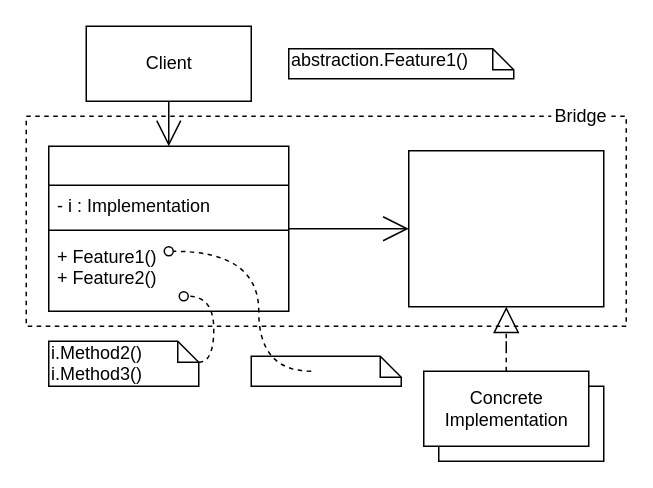
Image size: 653x488. Some labels were removed from this diagram. The shapes that lost their labels are listed below. From the top down, each one's box as (x1, y1, x2, y2) in pixels, then its label:
(47, 145, 289, 311): Abstraction
(407, 149, 604, 307): <<Interface>> Inplementation + Method1() + Method2() + method3()
(250, 355, 401, 386): i.Method1()
